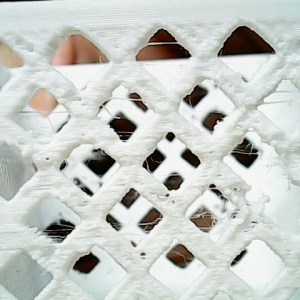3dpstringing: (223, 139, 287, 171), (103, 95, 147, 139), (18, 106, 74, 135), (253, 85, 298, 115), (106, 216, 169, 237), (36, 221, 86, 243), (184, 95, 229, 119), (187, 210, 225, 234), (159, 247, 201, 267), (134, 58, 190, 73), (141, 35, 185, 50), (199, 185, 229, 204), (92, 53, 105, 75)
3dpunderextrusion: (237, 180, 283, 236), (13, 37, 46, 69)
